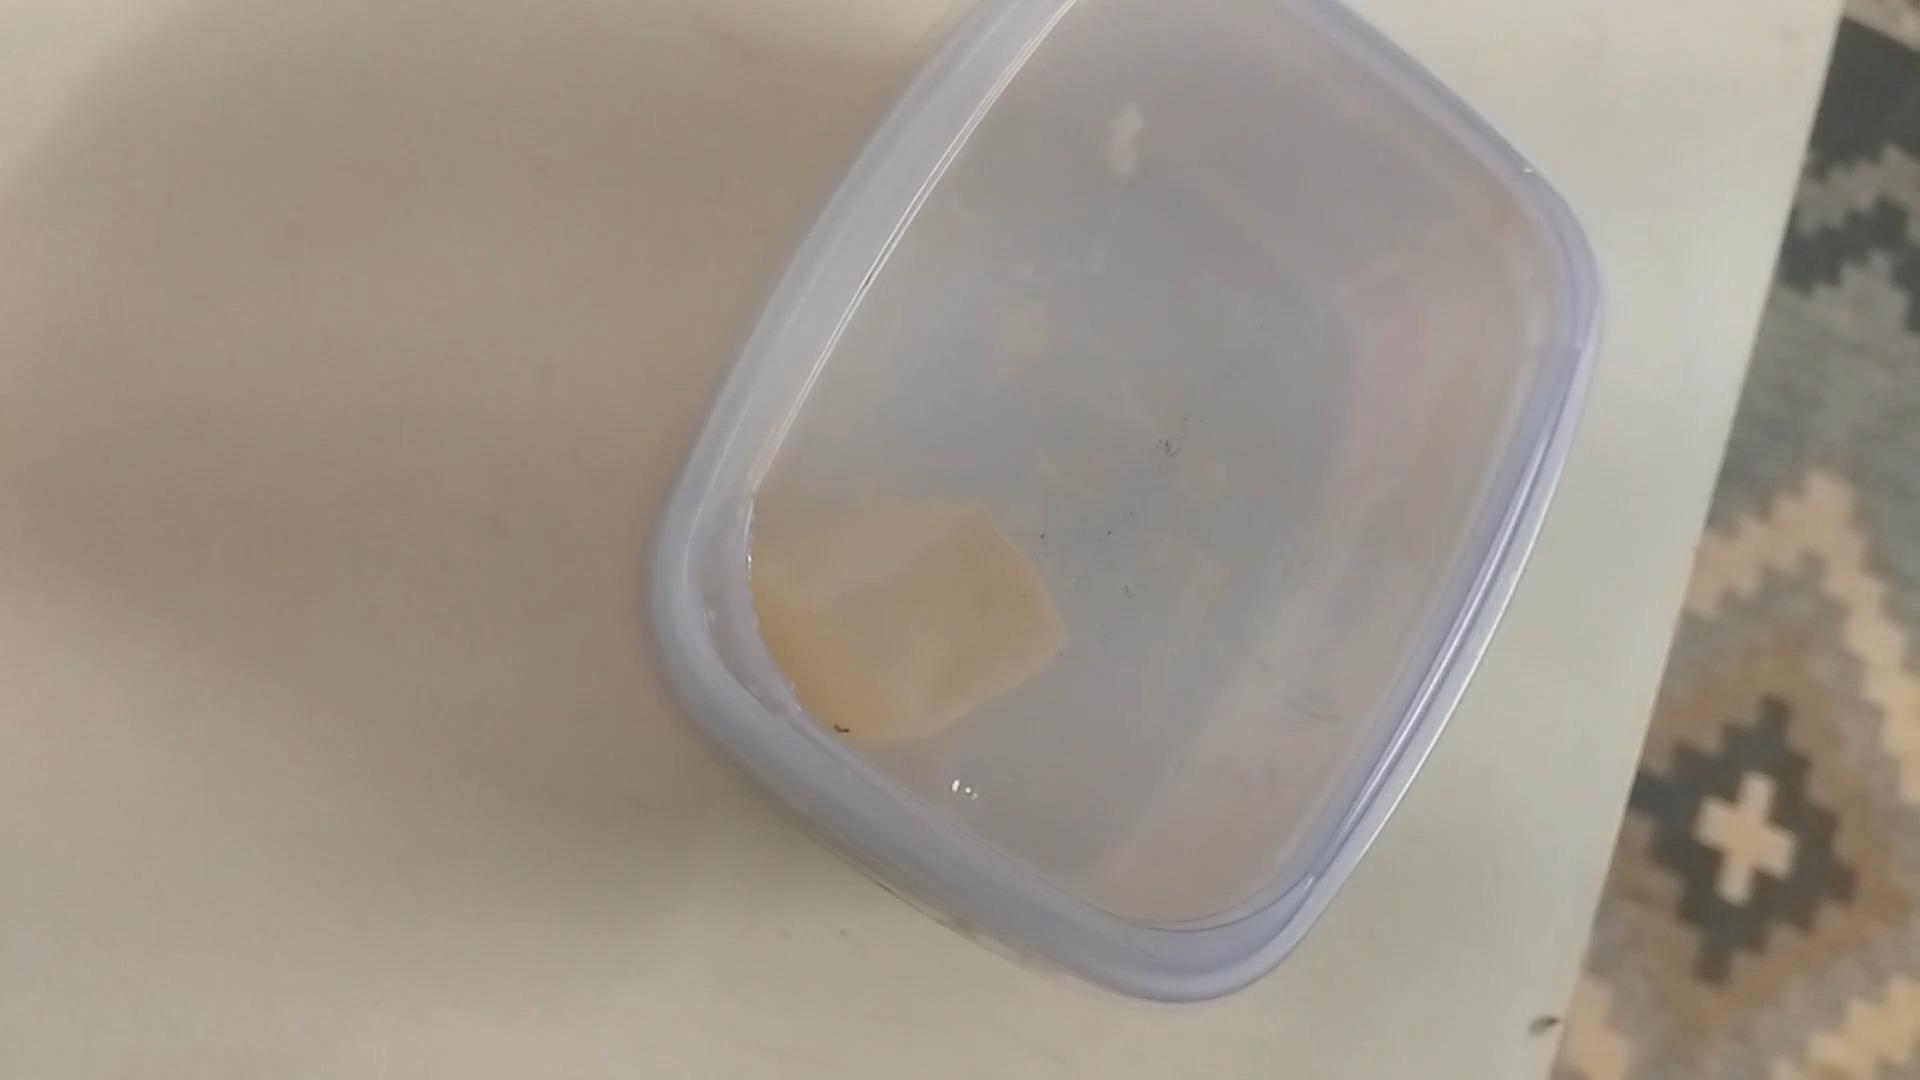butter: (642, 1, 1581, 1002)
